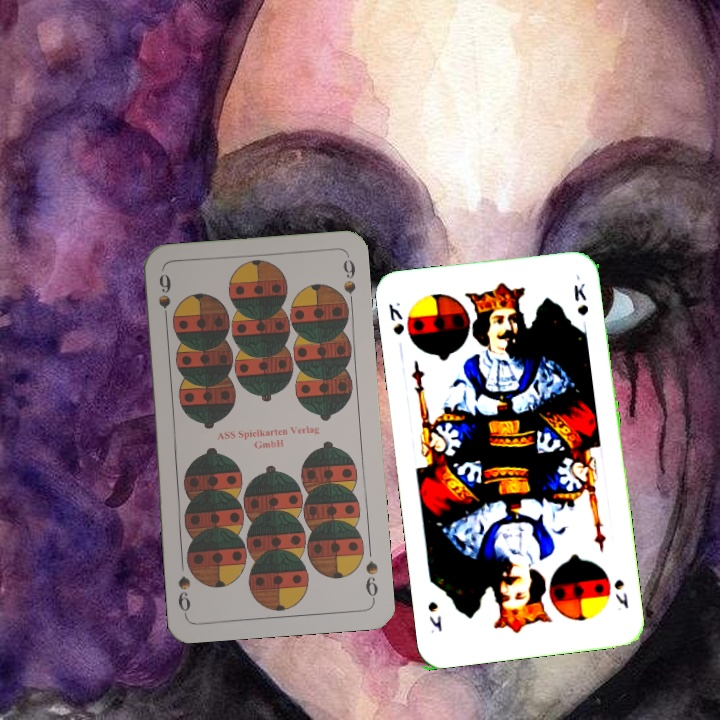S9: (154, 270, 174, 328), (361, 556, 381, 603)
SK: (384, 298, 407, 338), (610, 575, 631, 611)
